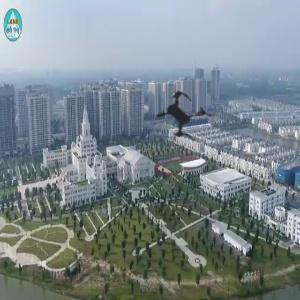drone: (126, 63, 236, 173)
